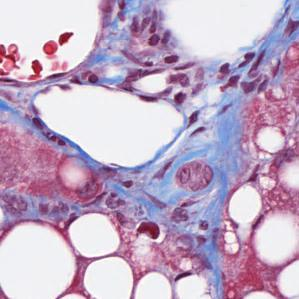inflammation: (160, 53, 274, 106)
